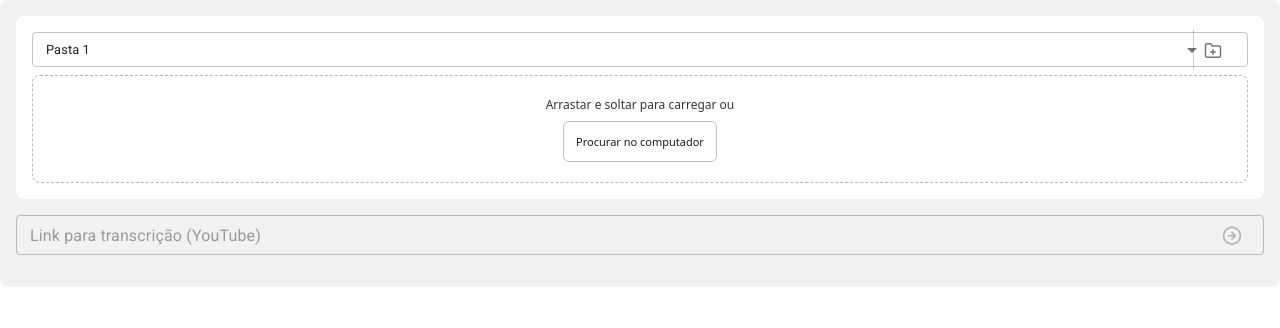
Test case: UploadDropDown › YouTube Link functionality › should show error state and message for non-YouTube link
Type "https://example.com/video" into the field with placeholder "Link para transcrição (YouTube)" at (611, 235), box [16, 215, 1206, 255]
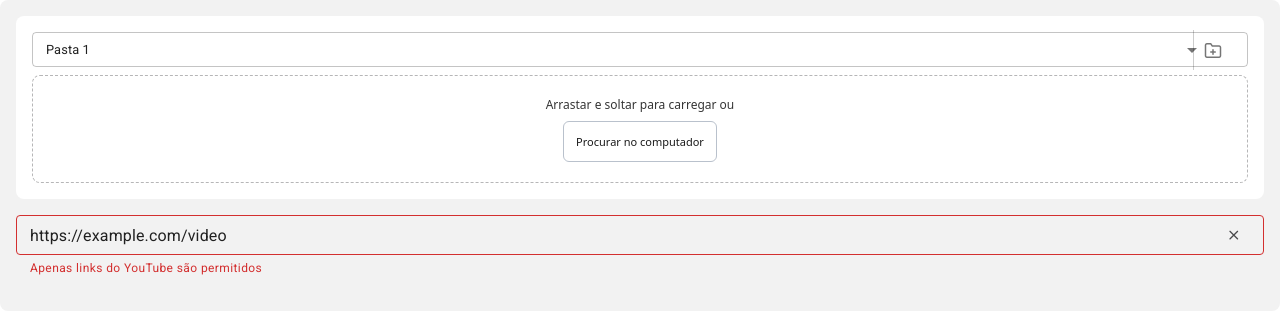
Expected: the text "Apenas links do YouTube são permitidos" is shown, [30, 261, 262, 275]
